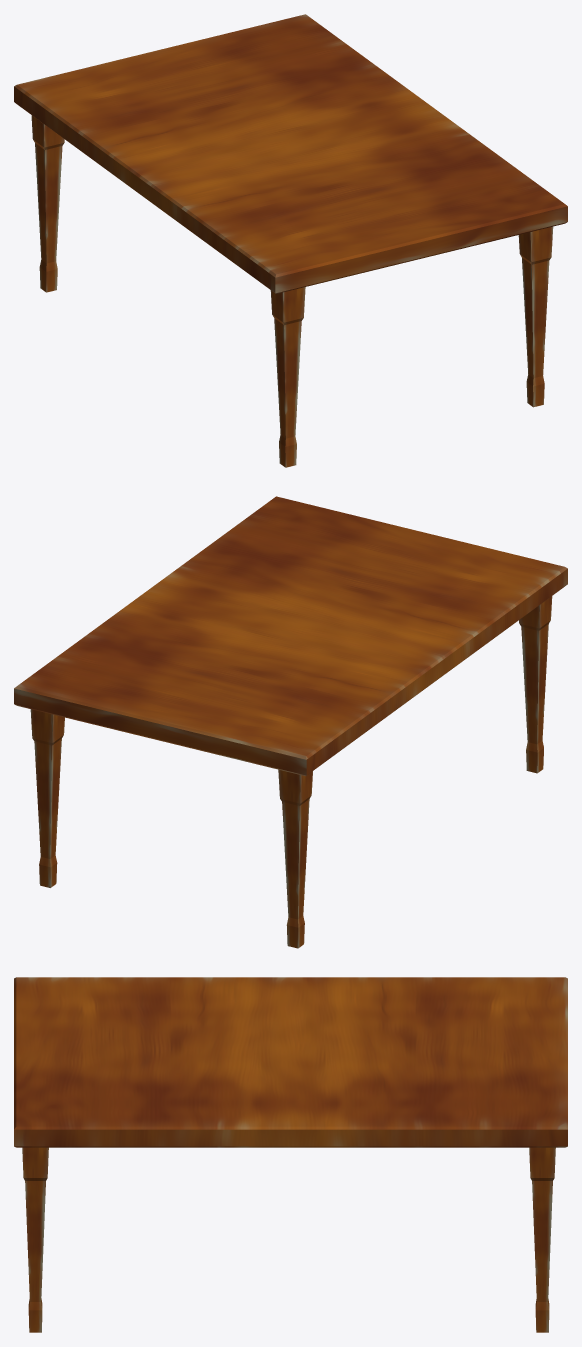
The model's file is Table.fbx.
3 views of the same model, one above another, from view 1: azimuth 30°, elevation 25°; view 2: azimuth 150°, elevation 25°; view 3: azimuth 270°, elevation 25° (orthographic). The views are drawn at different scales.
Parts seen in each view (by area): view 1: Table; view 2: Table; view 3: Table.
Boxes of the visible parts, <box> form: Table: <box>14,14,567,467</box>; Table: <box>14,496,567,948</box>; Table: <box>14,977,567,1332</box>.
Size of the model in its own units: 1690 by 1113 by 2616.
